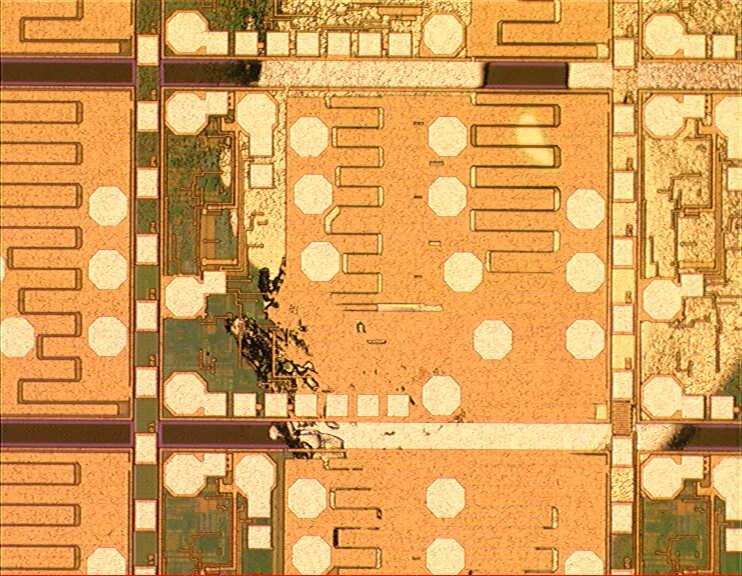BLOCK ETCH: (216, 1, 742, 576)
